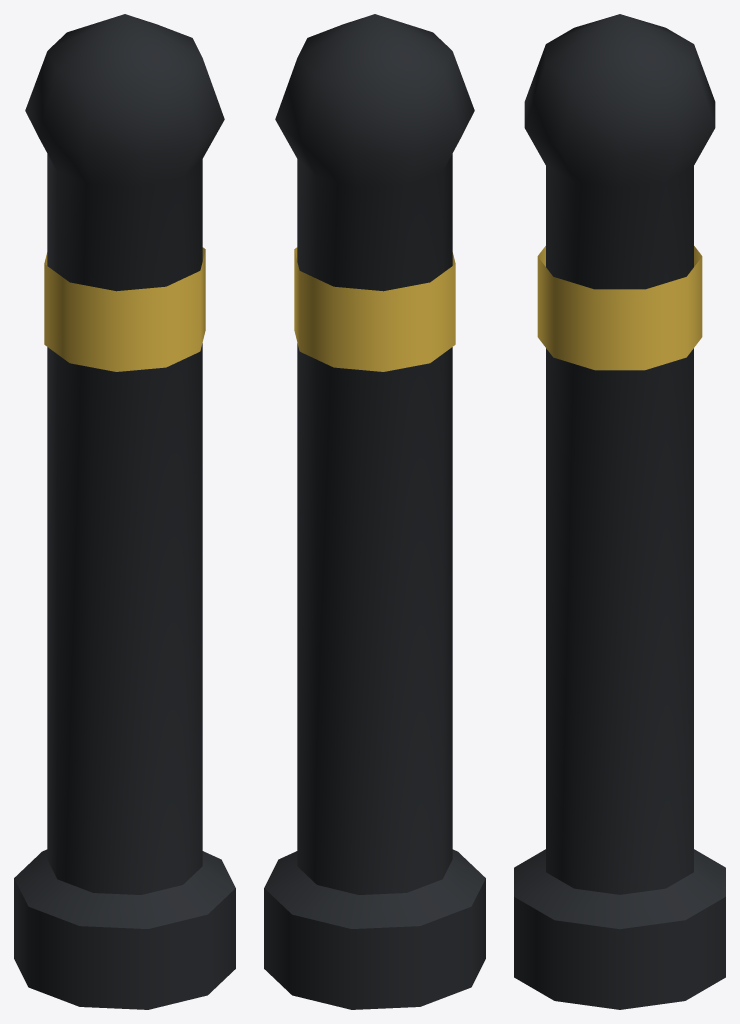
File: bollard.glb
3 views of the same model, side by side, from view 1: azimuth 30°, elevation 25°; view 2: azimuth 150°, elevation 25°; view 3: azimuth 270°, elevation 25° (orthographic).
Parts seen in each view (by area): view 1: bollard; view 2: bollard; view 3: bollard.
Part boxes in pixels (x1=…): bollard: x1=14, y1=14, x2=235, y2=1009; bollard: x1=264, y1=14, x2=485, y2=1009; bollard: x1=514, y1=14, x2=725, y2=1009.
Size of the model in its own units: 0.2 by 0.94 by 0.1902.
